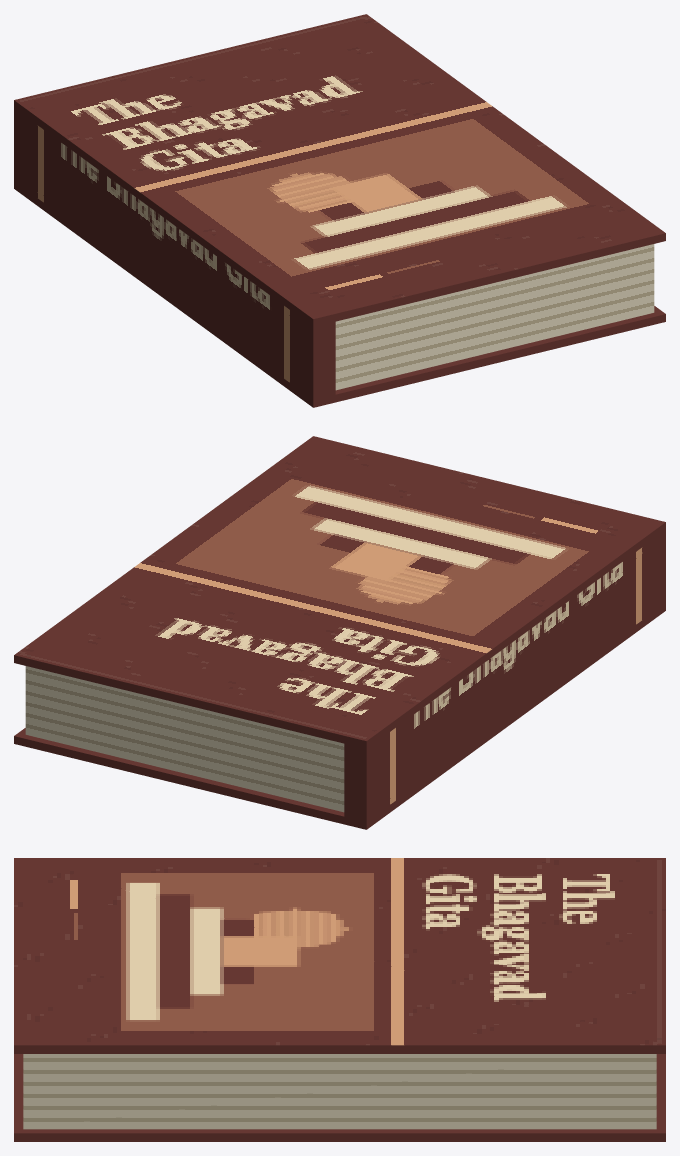
Rendered from holybook_gita.glb.
3 views of the same model, one above another, from view 1: azimuth 30°, elevation 25°; view 2: azimuth 150°, elevation 25°; view 3: azimuth 270°, elevation 25° (orthographic). The views are drawn at different scales.
Parts seen in each view (by area): view 1: block_front cover, block_spine, block_page block, block_back cover; view 2: block_front cover, block_spine, block_page block, block_back cover; view 3: block_front cover, block_page block, block_back cover.
Part boxes in pixels (x1,y1,x2,y2): block_front cover: [14, 14, 665, 326]; block_spine: [14, 108, 335, 399]; block_page block: [335, 244, 654, 390]; block_back cover: [14, 181, 665, 407]; block_front cover: [14, 436, 665, 748]; block_spine: [344, 530, 665, 821]; block_page block: [25, 666, 344, 812]; block_back cover: [14, 603, 665, 829]; block_front cover: [14, 858, 665, 1053]; block_page block: [23, 1054, 656, 1129]; block_back cover: [14, 1054, 665, 1141].
Size of the model in its own units: 0.1414 by 0.034 by 0.208.
Materials: 1 (1 with a texture image).
